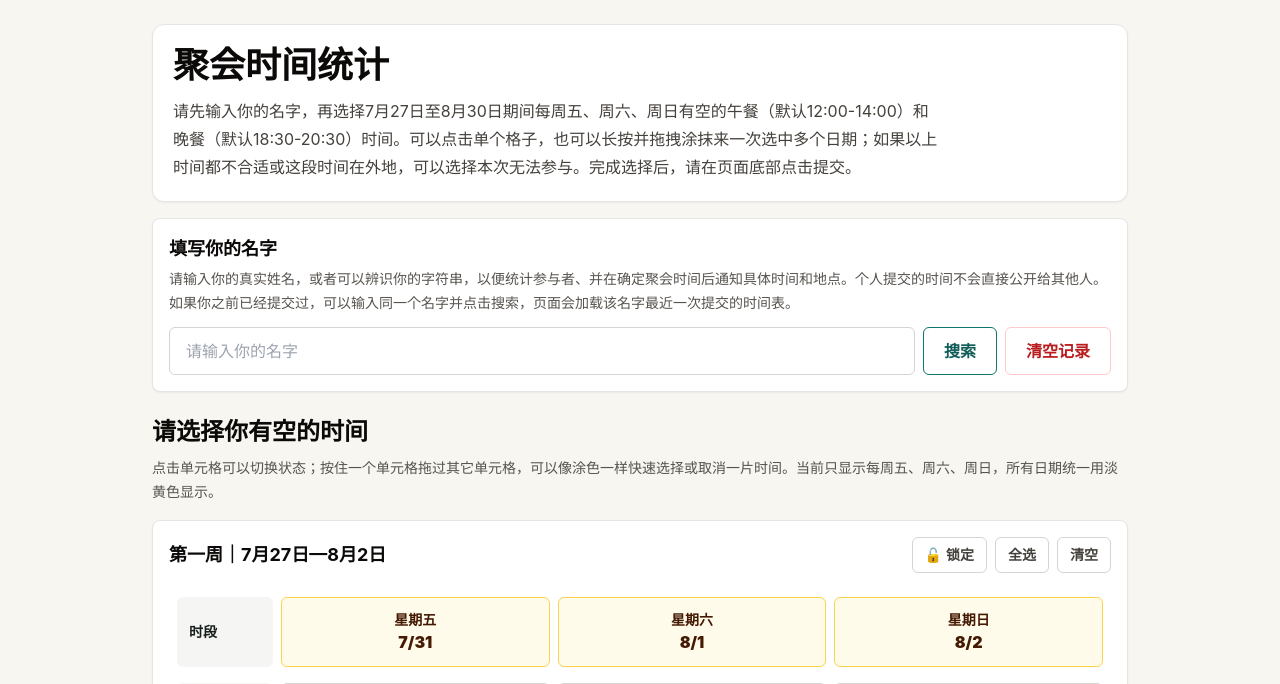
Test: App 提交流程 › 没有本地 token 时不会清空后台提交记录
This screenshot has width=1280, height=684.
Type "小陈" into the field labelled "你的名字".
click(542, 351); type("小陈")  # box 169,327 -> 915,375
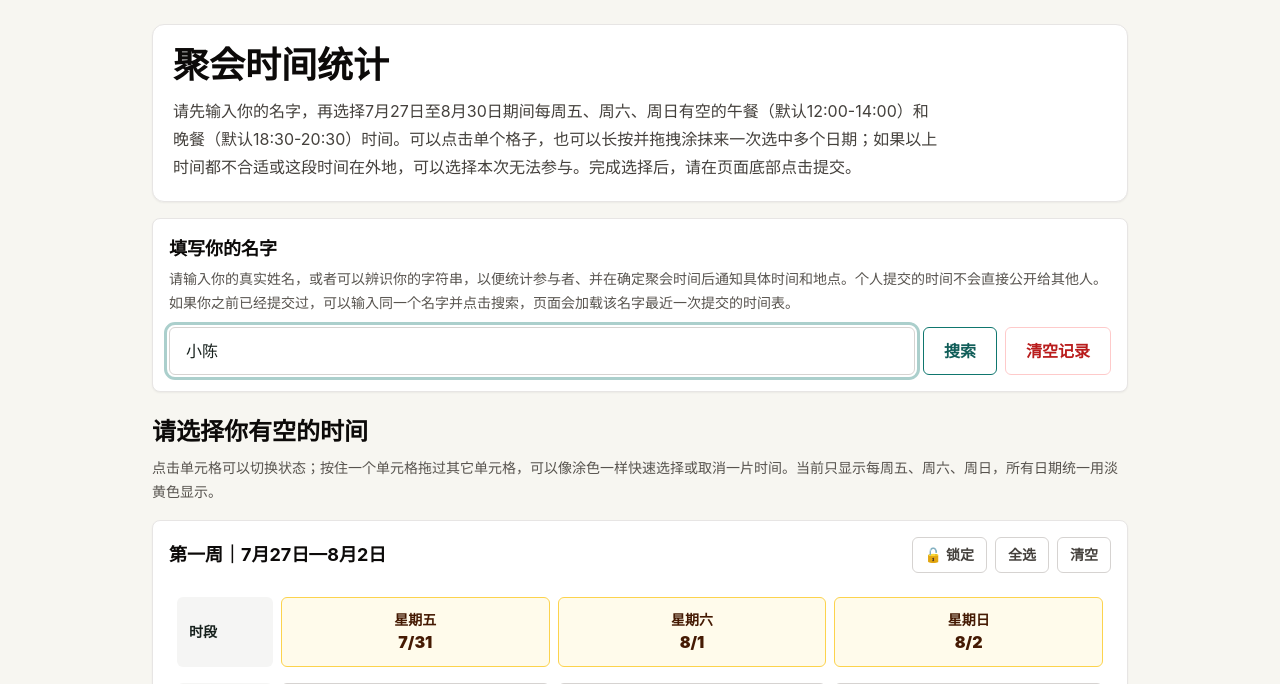
Click the button "清空记录".
click(1058, 351)  # box 1005,327 -> 1111,375
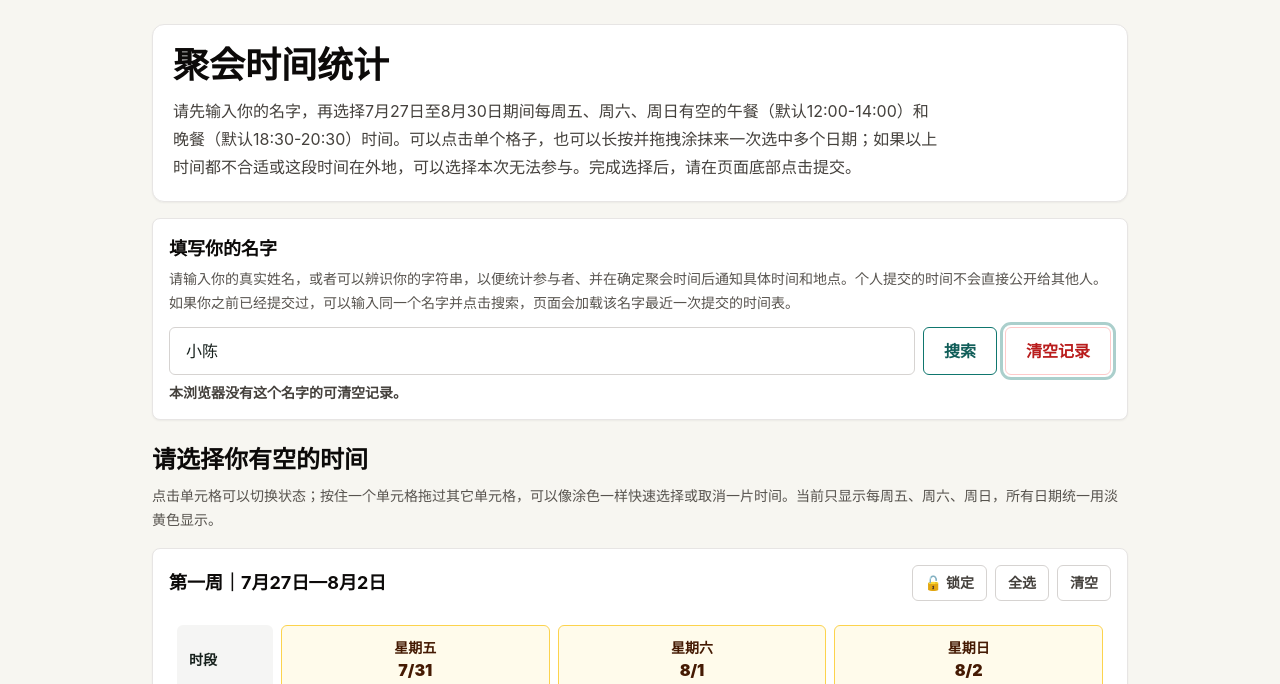
Check: the text "本浏览器没有这个名字的可清空记录。" is shown, box 169,384 -> 407,401
